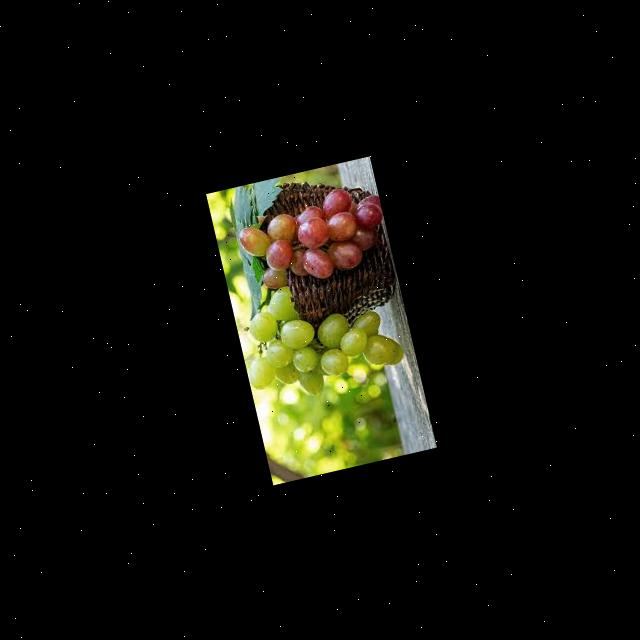grape: (228, 257, 408, 408), (231, 180, 392, 296)
